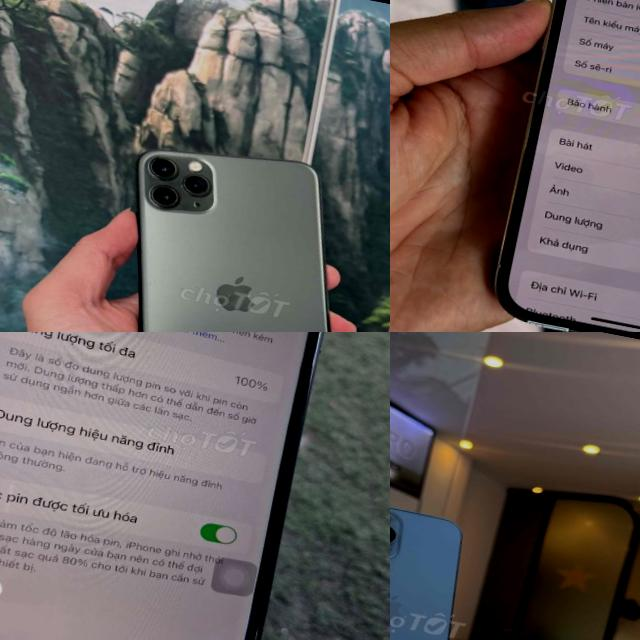gen_11: (80, 125, 390, 332)
gen_12_13: (486, 0, 640, 332), (390, 491, 481, 640)
gen_7_8: (0, 332, 356, 640)
